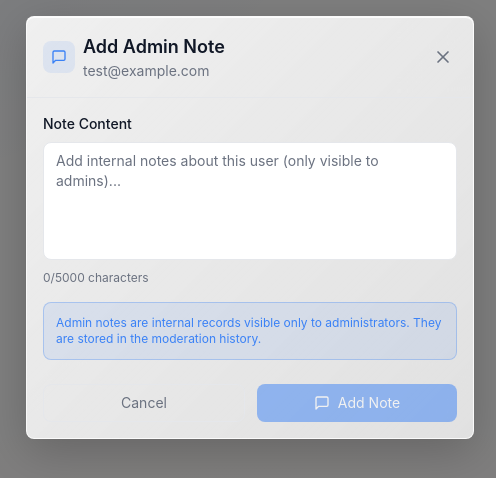
Scenario: AddAdminNoteModal › updates character count as user types
This screenshot has width=496, height=478.
Type "Test note" into the text box with placeholder "Add internal notes about this user" at (250,200), box [43,142,457,260]
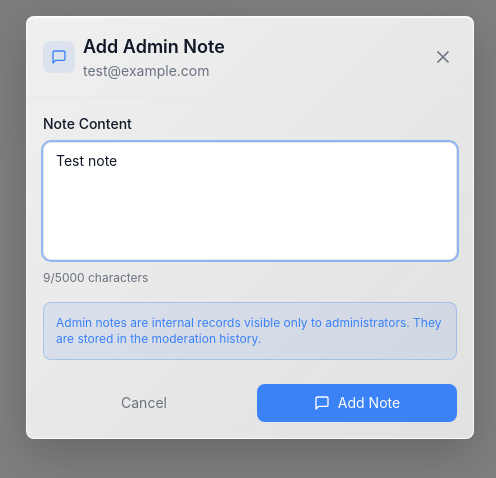
Check: the text "9/5000 characters" is shown, box [43,270,148,284]
